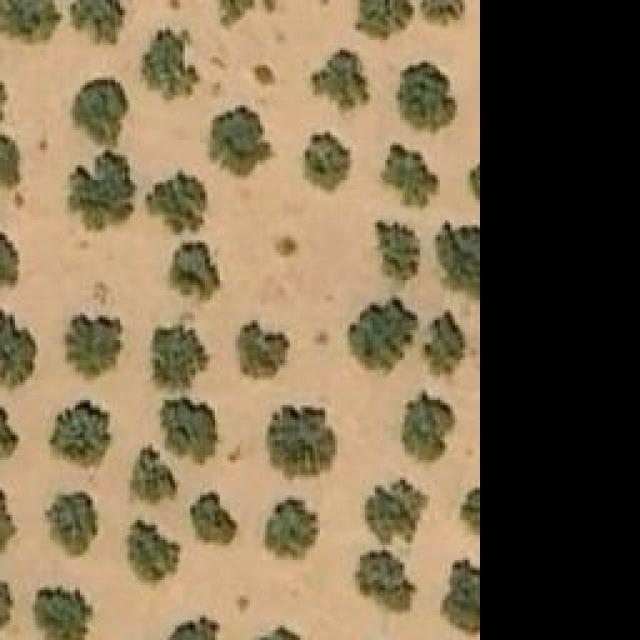Tree: (268, 405, 343, 478), (208, 102, 278, 180), (348, 297, 418, 375), (400, 388, 458, 471), (395, 60, 458, 133), (50, 400, 113, 470), (142, 28, 200, 101), (380, 140, 440, 210), (63, 313, 123, 383), (365, 478, 426, 546), (145, 170, 208, 235), (70, 160, 130, 228), (358, 548, 418, 615), (165, 242, 223, 310), (262, 495, 320, 560), (163, 397, 218, 465), (128, 520, 181, 590), (235, 318, 290, 383), (75, 75, 130, 140), (435, 220, 478, 303), (313, 48, 368, 111), (155, 325, 208, 388), (128, 443, 181, 506), (48, 493, 98, 558), (0, 308, 38, 393), (190, 490, 243, 548), (35, 587, 90, 640), (442, 557, 477, 640), (302, 133, 350, 193), (423, 313, 466, 376), (355, 0, 415, 42), (378, 222, 421, 280), (0, 0, 55, 38), (73, 0, 118, 38), (0, 132, 22, 207), (210, 0, 263, 30), (163, 615, 223, 640), (415, 0, 465, 28), (0, 230, 20, 293), (0, 405, 18, 465), (460, 487, 478, 535), (272, 235, 300, 258), (253, 63, 276, 88)
